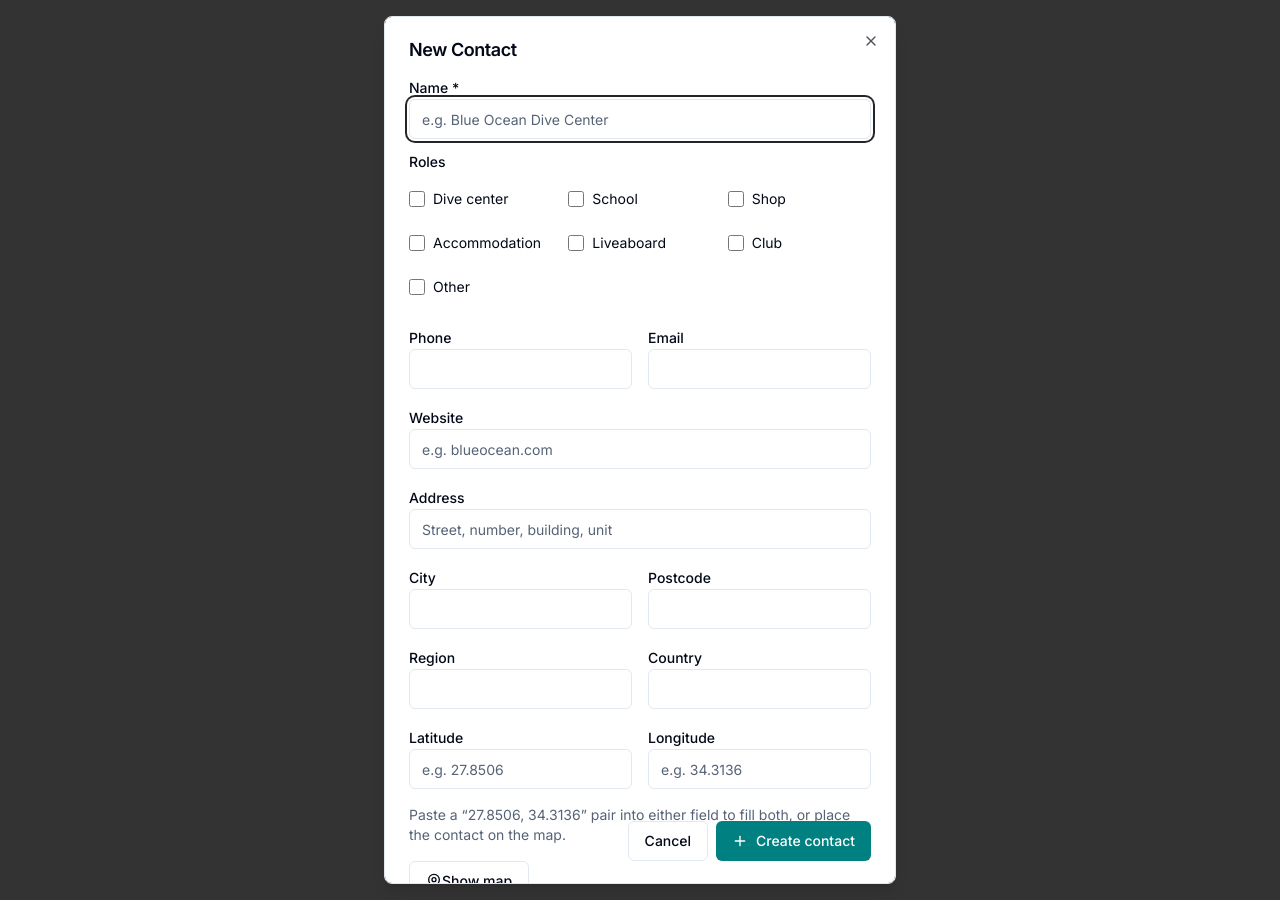
Scenario: ContactDialog's position › refuses half a pair typed into Latitude, naming the missing half
Step 1. Type "Sea Dragon" into the field labelled "Name *" → (640, 119), box 409,99 -> 871,139
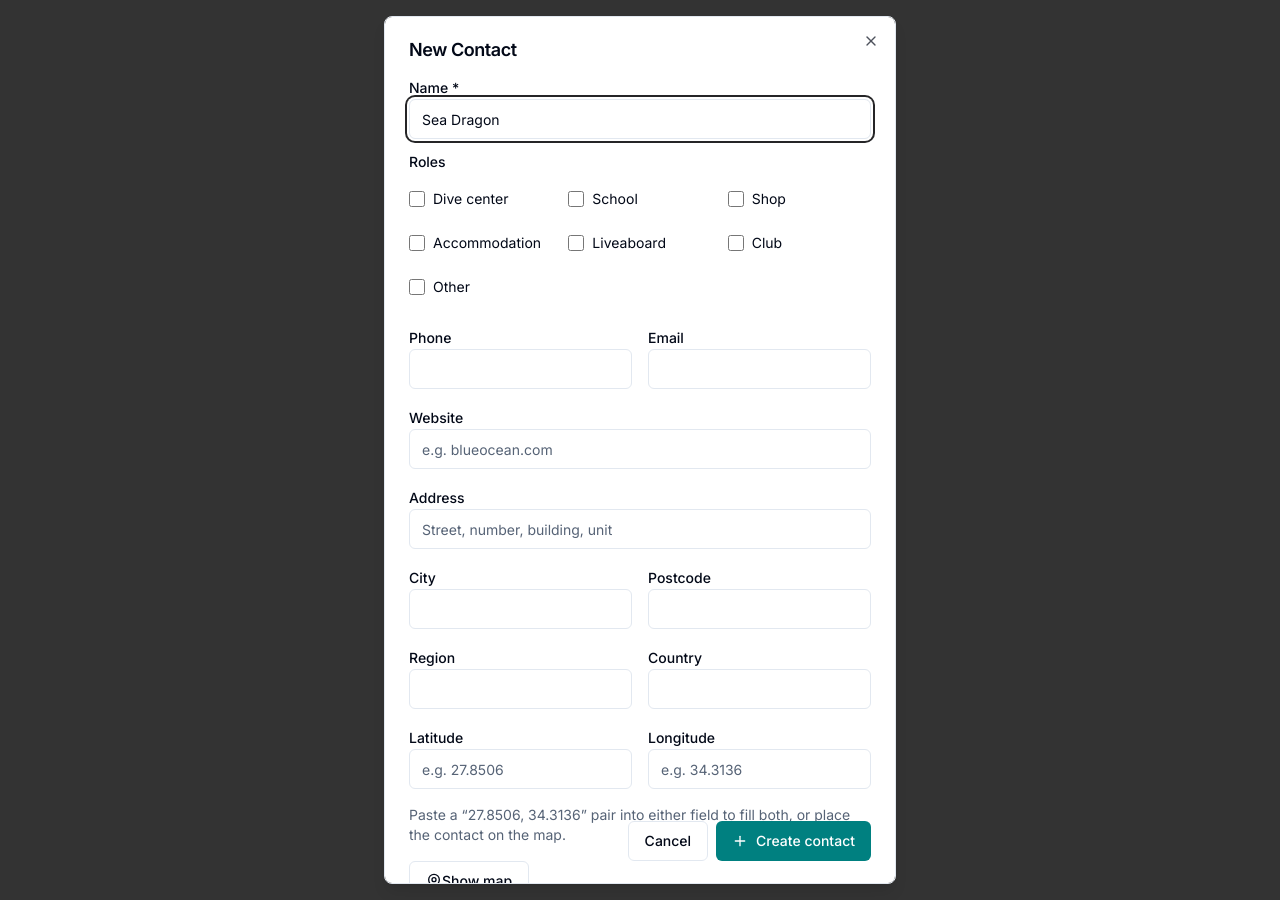
Step 2. Type "27.7" into the field labelled "Latitude" → (520, 769), box 409,749 -> 632,789
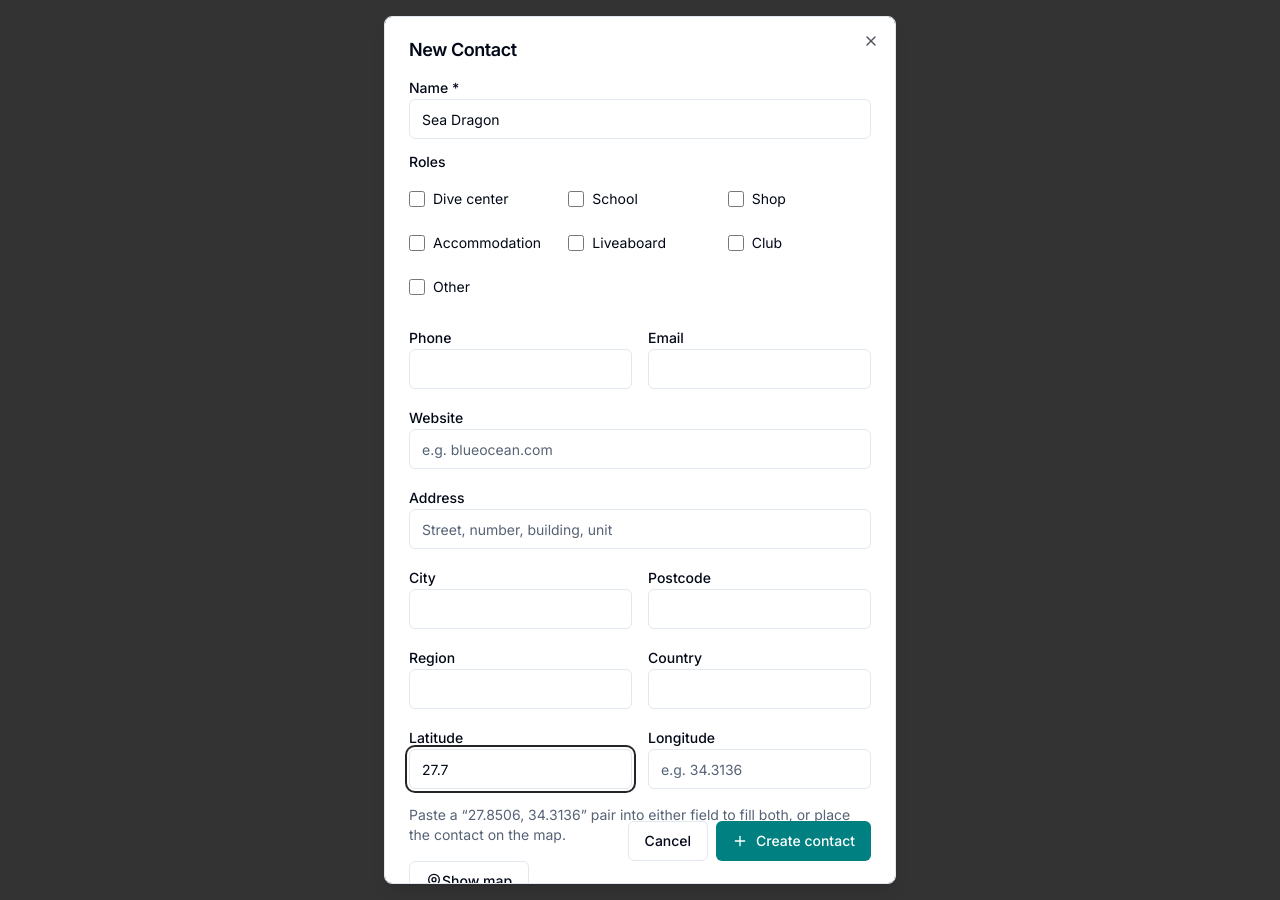
Step 3. Click the button "Create contact" → (794, 841), box 716,821 -> 871,861
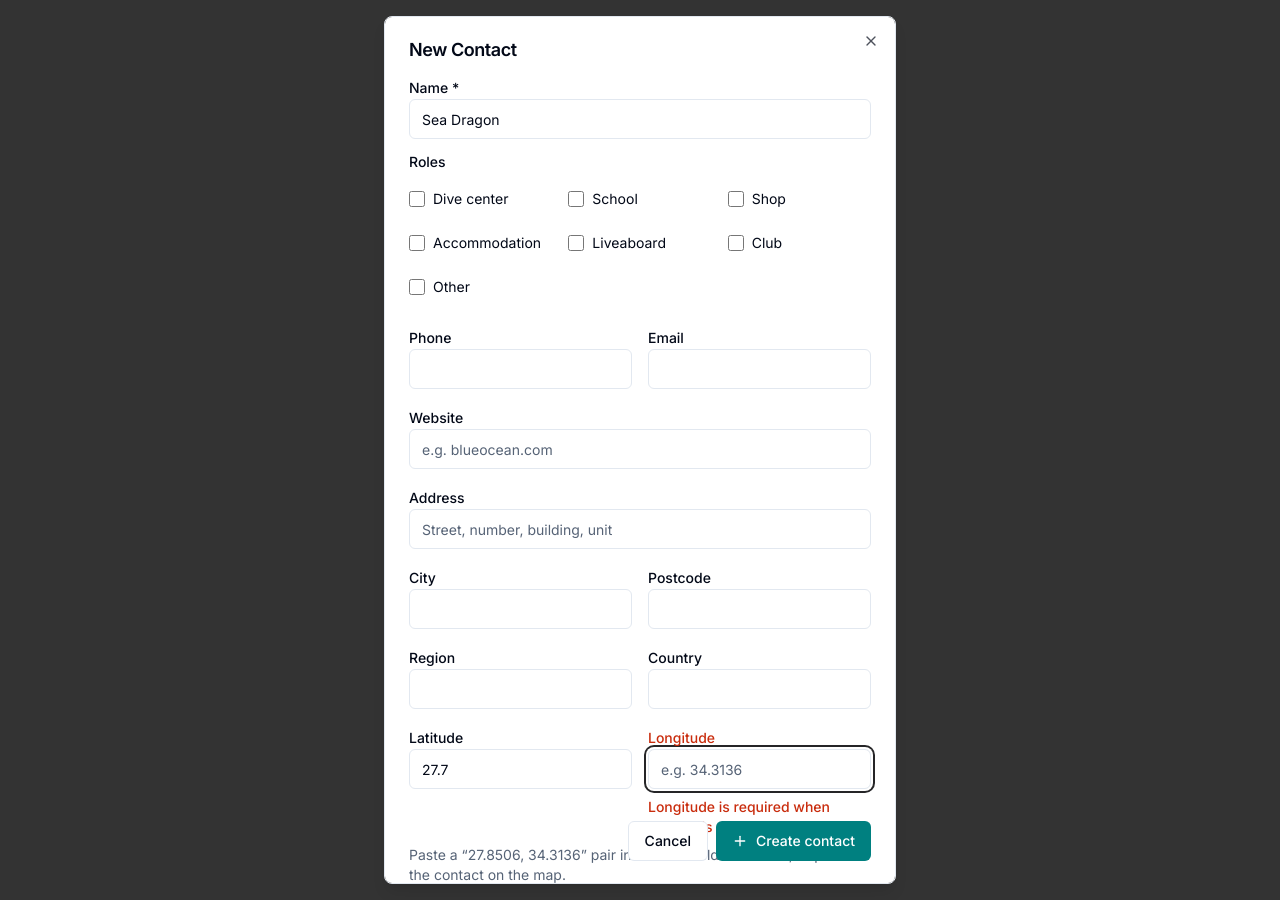
Now the text "Longitude is required when latitude is given" is shown, box 648,798 -> 830,835
